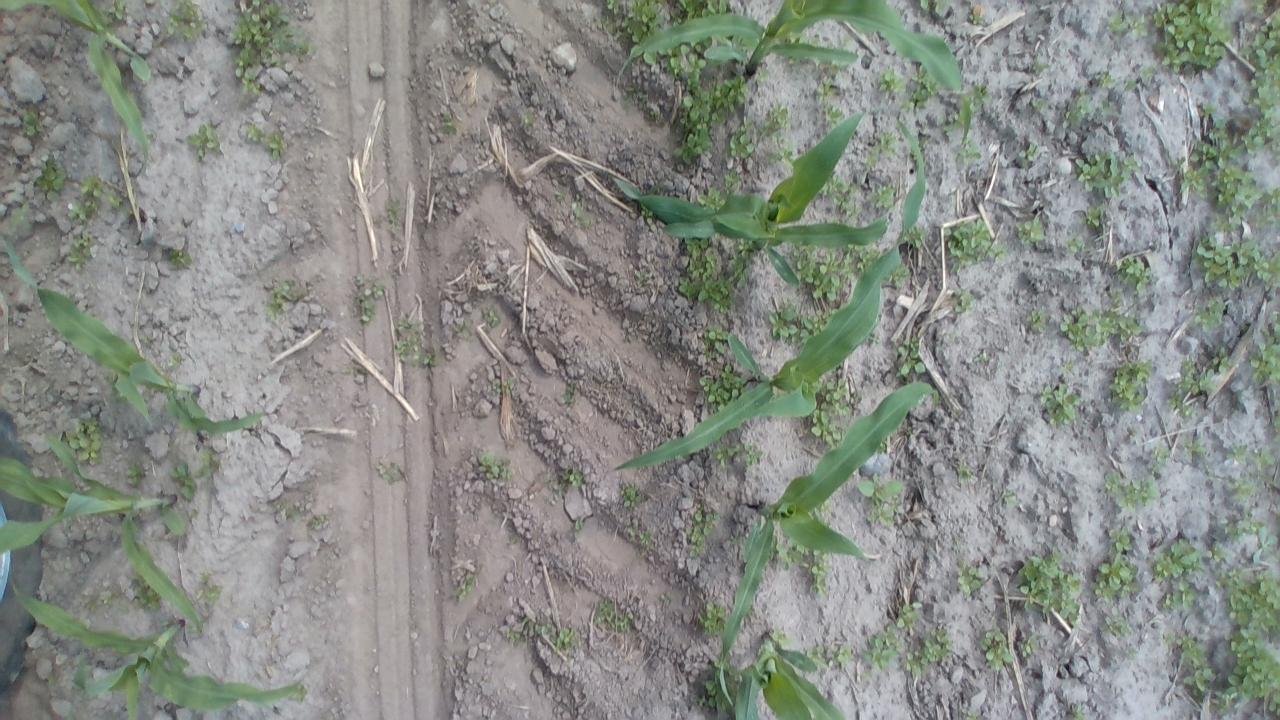Maize: (614, 119, 932, 478), (710, 382, 939, 710), (3, 228, 281, 434), (609, 113, 914, 287), (618, 2, 972, 150), (0, 432, 209, 632), (13, 583, 310, 720), (1, 0, 158, 160), (734, 623, 850, 720)
Weeds: (230, 2, 313, 96), (1184, 103, 1249, 204), (1240, 0, 1280, 158), (1215, 631, 1280, 720), (678, 77, 747, 158), (1156, 0, 1230, 68), (677, 237, 742, 312), (1018, 547, 1081, 623), (1216, 568, 1276, 632), (1194, 238, 1270, 288), (946, 220, 1010, 279), (1062, 308, 1139, 348), (1077, 152, 1139, 196), (394, 312, 440, 370), (1177, 634, 1218, 696), (816, 378, 856, 438), (798, 249, 846, 299), (1092, 554, 1140, 604), (1109, 358, 1152, 410), (550, 188, 600, 231), (1152, 540, 1204, 581), (1154, 579, 1210, 617), (611, 1, 659, 45), (859, 132, 906, 176), (73, 590, 134, 622), (727, 239, 762, 293), (862, 478, 902, 524), (371, 454, 417, 494), (1220, 171, 1260, 216), (662, 44, 706, 84), (774, 308, 828, 340), (1176, 355, 1218, 396), (65, 420, 104, 463), (728, 120, 769, 160), (1248, 516, 1280, 566), (1041, 384, 1080, 424), (1057, 86, 1092, 130), (1011, 211, 1051, 246), (980, 629, 1014, 670), (354, 278, 384, 324), (168, 0, 202, 40), (703, 370, 743, 404), (1250, 332, 1276, 384), (1119, 253, 1153, 292), (670, 0, 730, 22), (371, 194, 401, 238), (505, 616, 559, 640), (864, 630, 896, 670), (194, 444, 226, 484), (918, 628, 952, 664), (195, 570, 229, 606), (826, 175, 858, 213), (266, 282, 300, 317), (594, 600, 631, 632), (35, 162, 67, 199), (1099, 608, 1133, 642), (690, 508, 713, 556), (488, 374, 530, 400), (1121, 477, 1157, 507), (773, 538, 801, 576), (626, 520, 653, 558), (187, 124, 221, 154), (1110, 12, 1148, 38), (701, 676, 730, 710), (1253, 446, 1278, 485), (804, 56, 848, 78), (808, 552, 830, 596), (896, 342, 924, 376), (171, 463, 197, 499), (1196, 298, 1226, 326), (68, 234, 94, 266), (450, 316, 477, 346), (65, 202, 99, 225), (1181, 432, 1205, 464), (274, 497, 302, 524), (701, 328, 727, 357), (957, 566, 983, 595), (551, 627, 581, 652), (552, 378, 578, 406), (122, 457, 144, 490), (616, 81, 638, 114), (335, 362, 371, 382), (877, 68, 905, 93), (765, 104, 790, 132), (438, 111, 462, 140), (908, 73, 928, 107), (851, 246, 877, 272), (947, 290, 975, 314), (896, 603, 922, 628), (480, 455, 508, 478), (1218, 514, 1247, 536), (168, 249, 197, 271), (699, 603, 722, 630), (78, 177, 103, 201), (135, 583, 158, 609), (22, 109, 44, 136), (105, 1, 132, 23), (814, 78, 836, 105), (1099, 468, 1120, 496), (917, 0, 951, 17), (743, 444, 765, 470), (453, 574, 474, 601), (1208, 348, 1231, 372), (1204, 538, 1226, 563), (874, 184, 896, 209), (1018, 142, 1045, 162), (164, 346, 186, 370), (722, 170, 744, 194), (1109, 528, 1131, 552), (954, 460, 975, 485), (268, 130, 286, 159), (828, 643, 854, 663), (1137, 62, 1156, 89), (633, 266, 656, 288), (965, 8, 988, 30), (1232, 477, 1255, 499), (715, 444, 739, 465), (960, 138, 982, 160), (1268, 408, 1280, 448), (1170, 396, 1194, 416), (1026, 310, 1046, 333), (699, 188, 722, 208), (1019, 634, 1038, 658), (107, 188, 125, 213), (904, 652, 922, 677), (1084, 204, 1102, 229), (970, 83, 990, 105), (641, 106, 661, 127), (1098, 70, 1119, 90), (621, 483, 641, 504), (1097, 98, 1120, 116), (968, 351, 995, 366), (562, 468, 584, 486), (806, 644, 824, 666), (1029, 61, 1052, 78), (905, 227, 924, 247), (890, 268, 909, 288), (1030, 96, 1050, 115), (1065, 235, 1084, 255), (517, 114, 538, 132), (636, 208, 654, 229), (777, 144, 796, 163), (770, 628, 789, 647), (306, 512, 326, 530), (1150, 442, 1170, 460), (245, 124, 264, 142), (824, 105, 842, 124), (11, 206, 28, 226), (1062, 358, 1078, 378), (570, 514, 586, 534), (1228, 444, 1248, 460), (958, 707, 982, 720), (1002, 487, 1018, 506), (1068, 702, 1084, 720), (486, 309, 500, 329), (1122, 426, 1138, 443), (756, 66, 770, 84), (820, 501, 834, 519), (1122, 79, 1136, 96), (1126, 646, 1138, 662), (1161, 630, 1172, 647), (952, 540, 968, 551)
